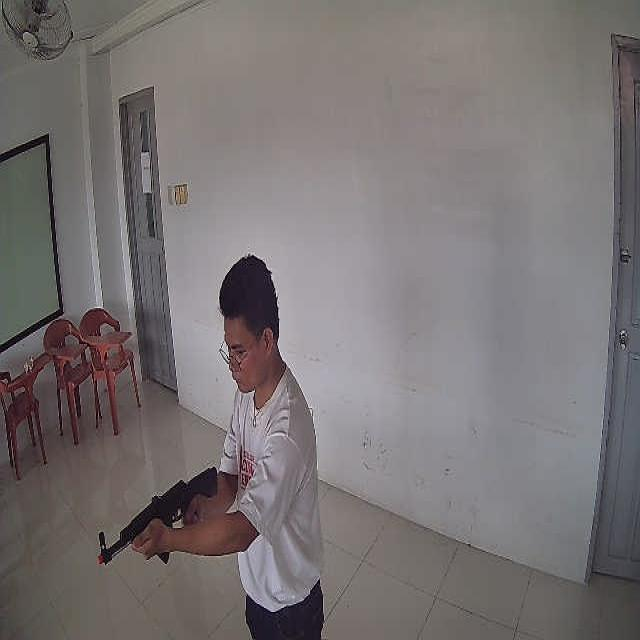rifle: (97, 467, 217, 565)
